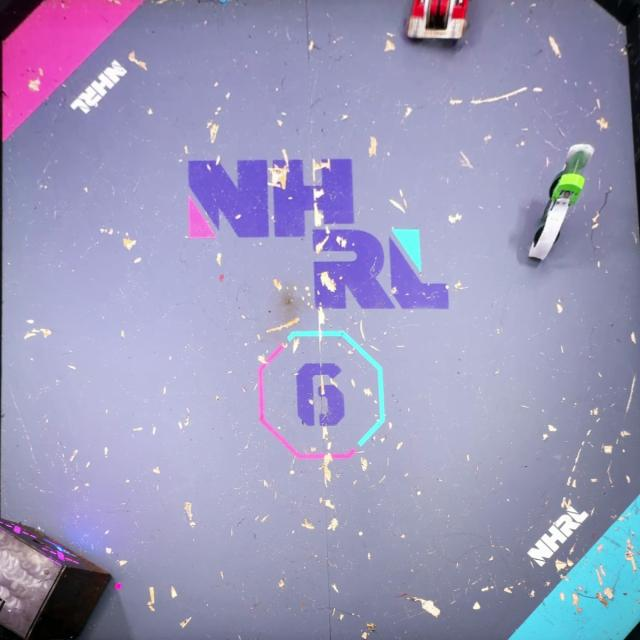housebot: (0, 518, 112, 640)
robot: (526, 141, 596, 263), (403, 0, 469, 44)
